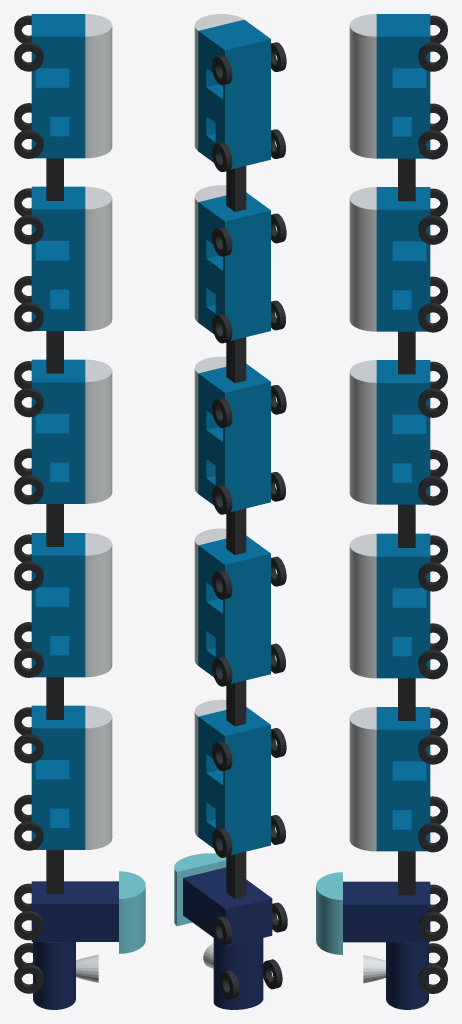
Rendered from tinker.obj.
3 renders of one model, left to right at view 1: azimuth 90°, elevation 25°; view 2: azimuth 210°, elevation 25°; view 3: azimuth 270°, elevation 25°, orthographic.
Parts seen in each view (by area): view 1: group_0_30377, group_0_14541540, group_0_2829873, group_0_1650274, group_0_7720667; view 2: group_0_30377, group_0_2829873, group_0_1650274, group_0_14541540, group_0_7720667; view 3: group_0_30377, group_0_14541540, group_0_2829873, group_0_1650274, group_0_7720667.
Part boxes in pixels (bbox=[...]): group_0_30377: bbox=[31, 14, 85, 849]; group_0_14541540: bbox=[76, 14, 112, 982]; group_0_2829873: bbox=[14, 15, 63, 993]; group_0_1650274: bbox=[31, 881, 118, 1009]; group_0_7720667: bbox=[119, 871, 145, 953]; group_0_30377: bbox=[198, 19, 270, 855]; group_0_2829873: bbox=[212, 42, 287, 999]; group_0_1650274: bbox=[183, 867, 272, 1009]; group_0_14541540: bbox=[194, 14, 243, 968]; group_0_7720667: bbox=[174, 853, 226, 926]; group_0_30377: bbox=[376, 14, 430, 851]; group_0_14541540: bbox=[349, 14, 385, 983]; group_0_2829873: bbox=[398, 15, 447, 993]; group_0_1650274: bbox=[343, 881, 430, 1009]; group_0_7720667: bbox=[316, 872, 342, 954].
Size of the model in its own units: 26.5 by 400 by 49.
